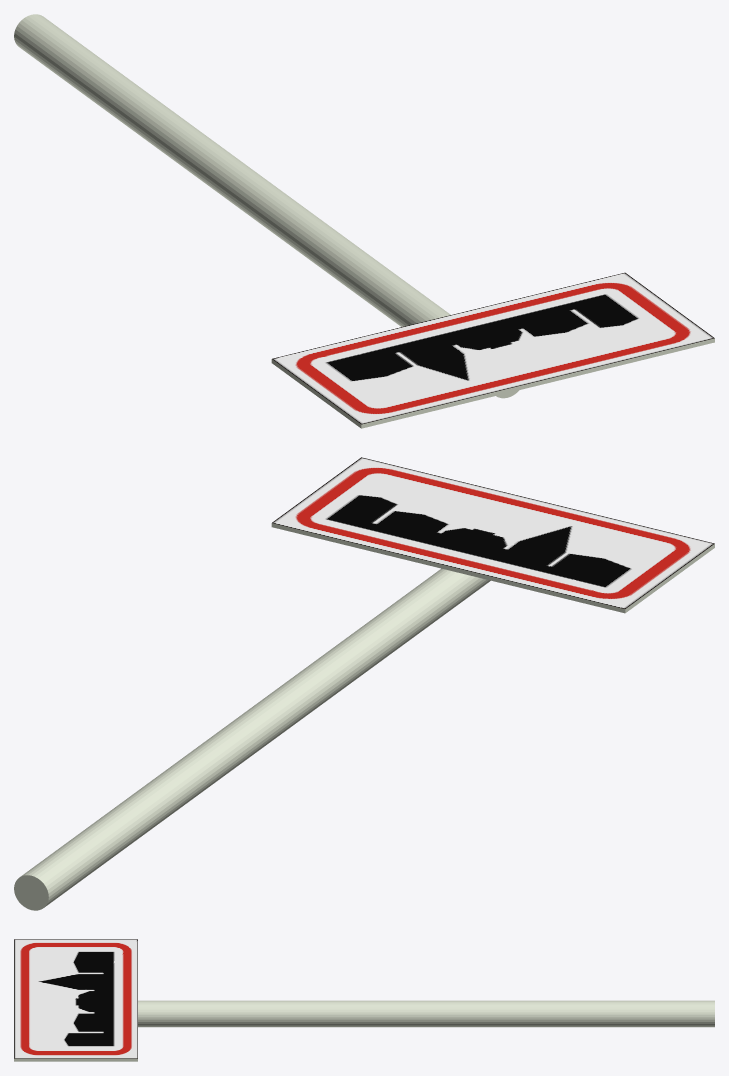
Rendered from lakott_terulet.glb.
3 views of the same model, one above another, from view 1: azimuth 30°, elevation 25°; view 2: azimuth 150°, elevation 25°; view 3: azimuth 270°, elevation 25° (orthographic). The views are drawn at different scales.
Visible parts, largest first — view 1: Cube, lakott_terulet_tube; view 2: Cube, lakott_terulet_tube; view 3: lakott_terulet_tube, Cube.
Part boxes in pixels (x1=…): Cube: x1=271, y1=272, x2=714, y2=428; lakott_terulet_tube: x1=14, y1=14, x2=518, y2=398; Cube: x1=271, y1=457, x2=714, y2=613; lakott_terulet_tube: x1=14, y1=568, x2=490, y2=910; lakott_terulet_tube: x1=138, y1=1000, x2=714, y2=1027; Cube: x1=14, y1=939, x2=137, y2=1061.
Bounding box in the file's own units: 0.0518 × 0.00543 × 0.1287.
Materials: 3 (1 with a texture image).
